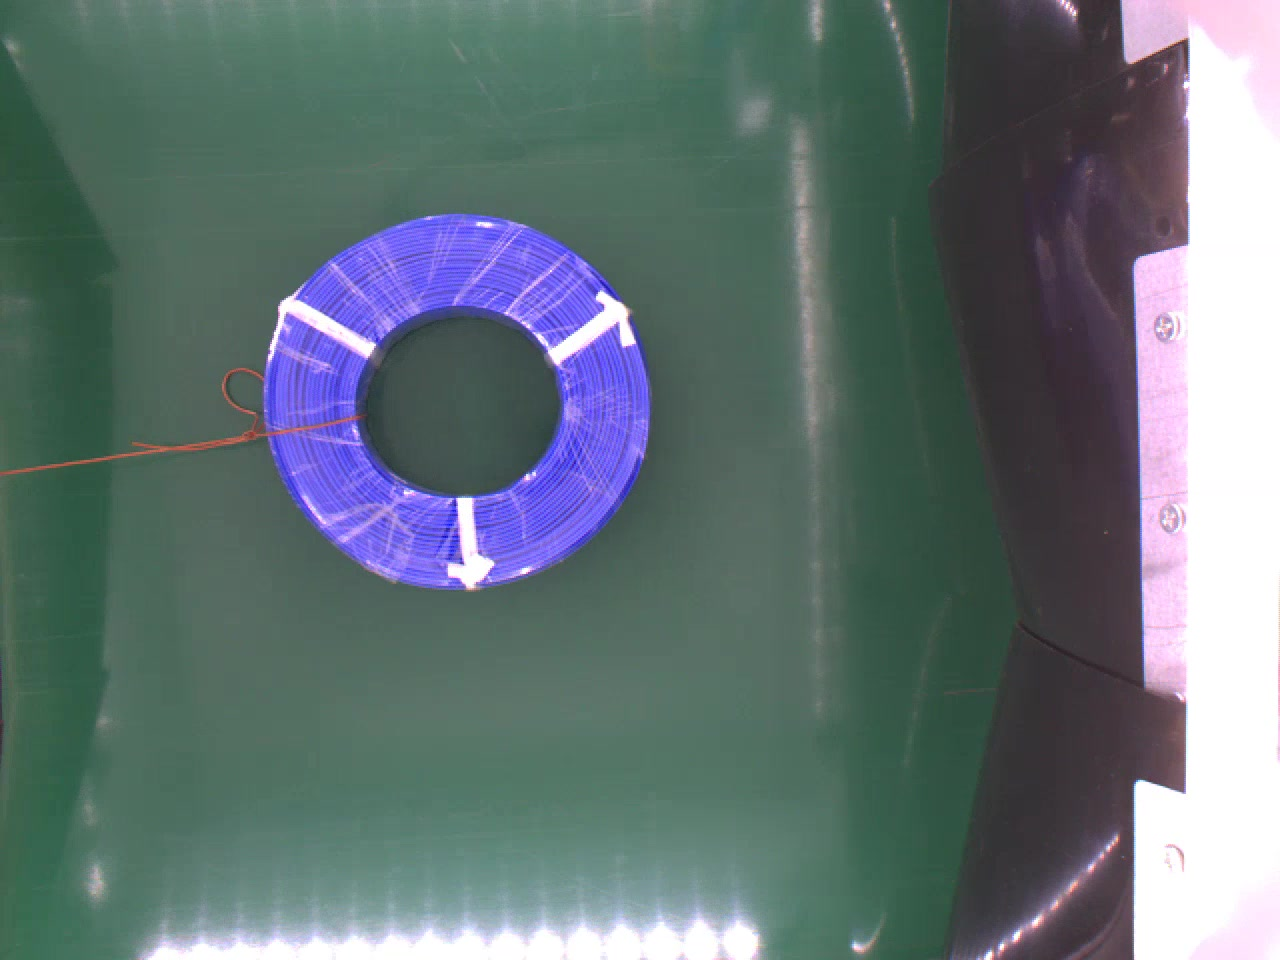blue: (255, 209, 652, 590)
